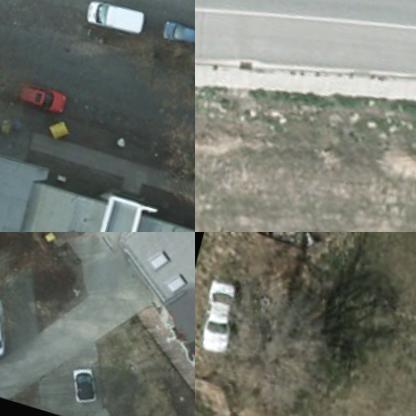car: (195, 274, 243, 352), (11, 70, 72, 114), (61, 356, 102, 404), (156, 7, 194, 44), (0, 290, 14, 355)
van: (83, 0, 147, 33)
